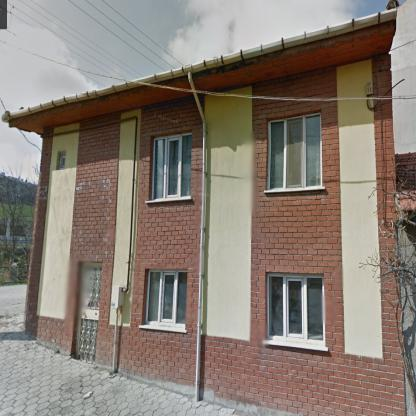door: (76, 263, 102, 361)
window: (268, 113, 322, 189), (268, 274, 324, 344), (152, 134, 190, 199), (146, 271, 186, 329), (57, 152, 65, 166)
